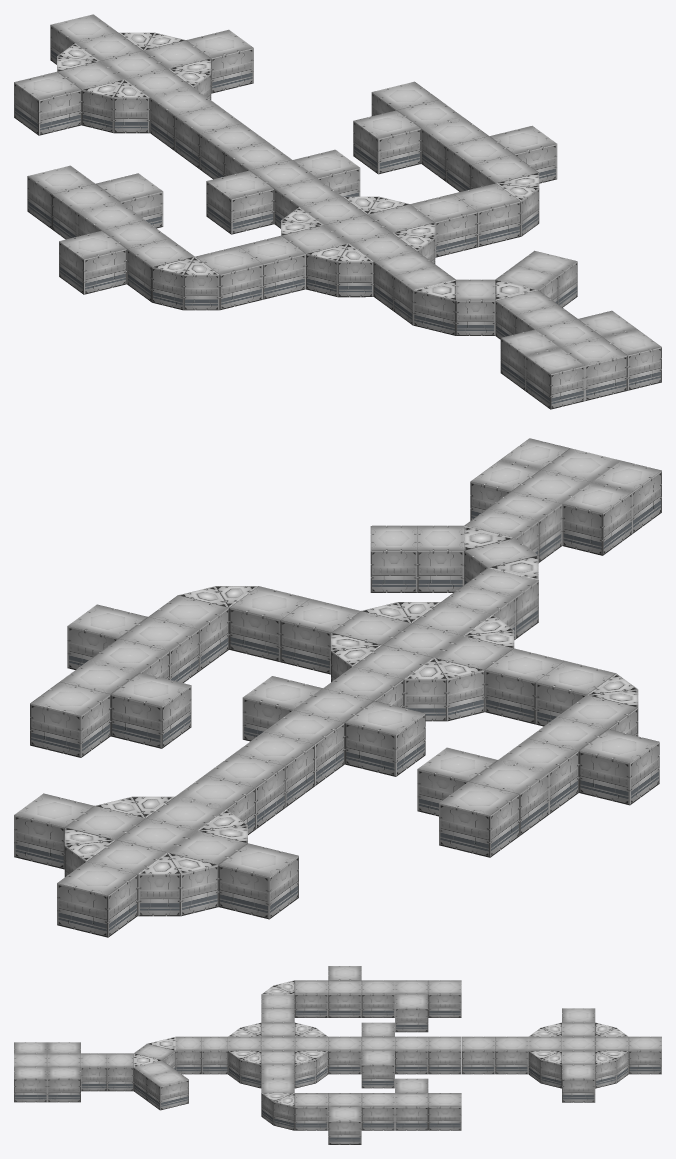
Rendered from level_initial.obj.
The picture shows the model from 3 angles, top to bottom: view 1: azimuth 30°, elevation 25°; view 2: azimuth 150°, elevation 25°; view 3: azimuth 270°, elevation 25°; orthographic projection. The views are drawn at different scales.
Visible parts, largest first — view 1: mesh48, mesh52, mesh35, mesh72, mesh09, mesh12, mesh29, mesh73, mesh40, mesh39, mesh28, mesh01 (+50 smaller); view 2: mesh48, mesh52, mesh38, mesh71, mesh72, mesh35, mesh49, mesh08, mesh40, mesh28, mesh73, mesh39 (+46 smaller); view 3: mesh04, mesh32, mesh43, mesh50, mesh55, mesh57, mesh37, mesh73, mesh53, mesh54, mesh56, mesh71 (+50 smaller).
Part boxes in pixels (<box>): mesh48: <box>353,110,421,174</box>; mesh52: <box>206,170,274,234</box>; mesh35: <box>59,231,126,294</box>; mesh72: <box>14,71,81,135</box>; mesh09: <box>525,347,584,409</box>; mesh12: <box>560,337,627,401</box>; mesh29: <box>195,246,262,310</box>; mesh73: <box>186,29,253,93</box>; mesh40: <box>453,183,520,247</box>; mesh39: <box>410,194,477,257</box>; mesh28: <box>238,235,305,299</box>; mesh01: <box>456,279,495,335</box>; mesh48: <box>110,672,191,748</box>; mesh52: <box>344,701,425,776</box>; mesh38: <box>439,781,519,857</box>; mesh71: <box>57,861,137,937</box>; mesh72: <box>218,843,298,919</box>; mesh35: <box>579,729,659,805</box>; mesh49: <box>30,682,110,757</box>; mesh08: <box>562,482,632,555</box>; mesh40: <box>229,586,309,661</box>; mesh28: <box>484,648,564,724</box>; mesh73: <box>14,793,93,869</box>; mesh39: <box>280,598,360,674</box>; mesh04: <box>147,1070,188,1110</box>; mesh32: <box>294,980,328,1017</box>; mesh43: <box>294,1093,328,1130</box>; mesh50: <box>328,1036,361,1074</box>; mesh55: <box>428,1036,461,1074</box>; mesh57: <box>495,1036,528,1074</box>; mesh37: <box>395,994,428,1032</box>; mesh73: <box>562,1064,595,1102</box>; mesh53: <box>361,1050,394,1088</box>; mesh54: <box>395,1036,428,1074</box>; mesh56: <box>462,1036,495,1074</box>; mesh71: <box>628,1036,661,1074</box>.
Bounding box in the file's own units: 423 × 30.34 × 747.
